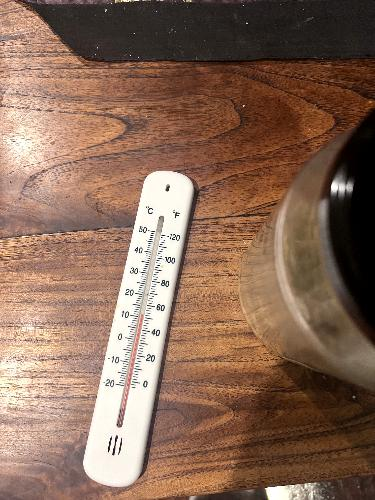thermo: (76, 168, 207, 486)
